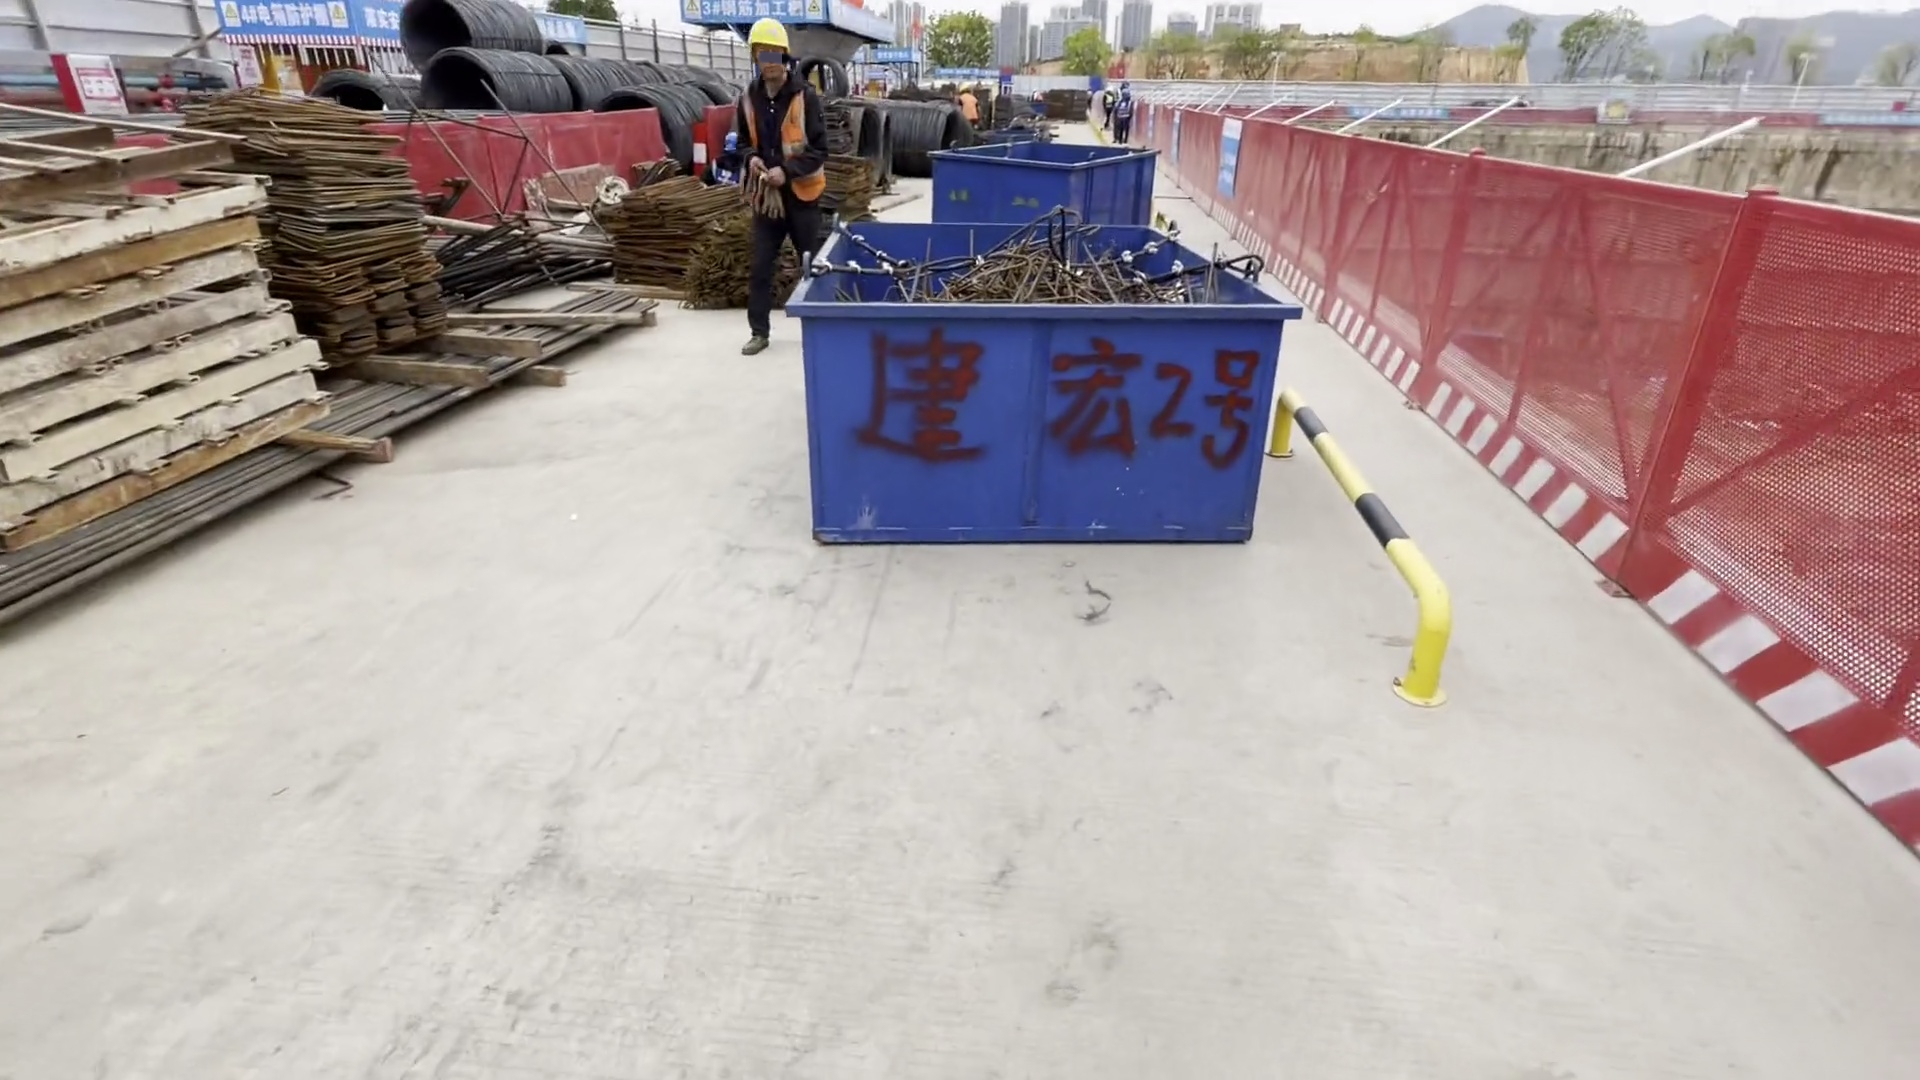fence: (1545, 194, 1920, 821), (1173, 112, 1622, 511)
helmet: (742, 17, 793, 55), (1122, 90, 1132, 99)
hopper: (776, 224, 1317, 542), (922, 137, 1176, 240)
person: (717, 16, 837, 362), (956, 83, 979, 128), (1117, 89, 1133, 144), (1099, 87, 1116, 136)
slogan: (323, 3, 352, 32)
vest: (734, 87, 822, 193), (958, 96, 977, 120), (1117, 104, 1132, 122)
